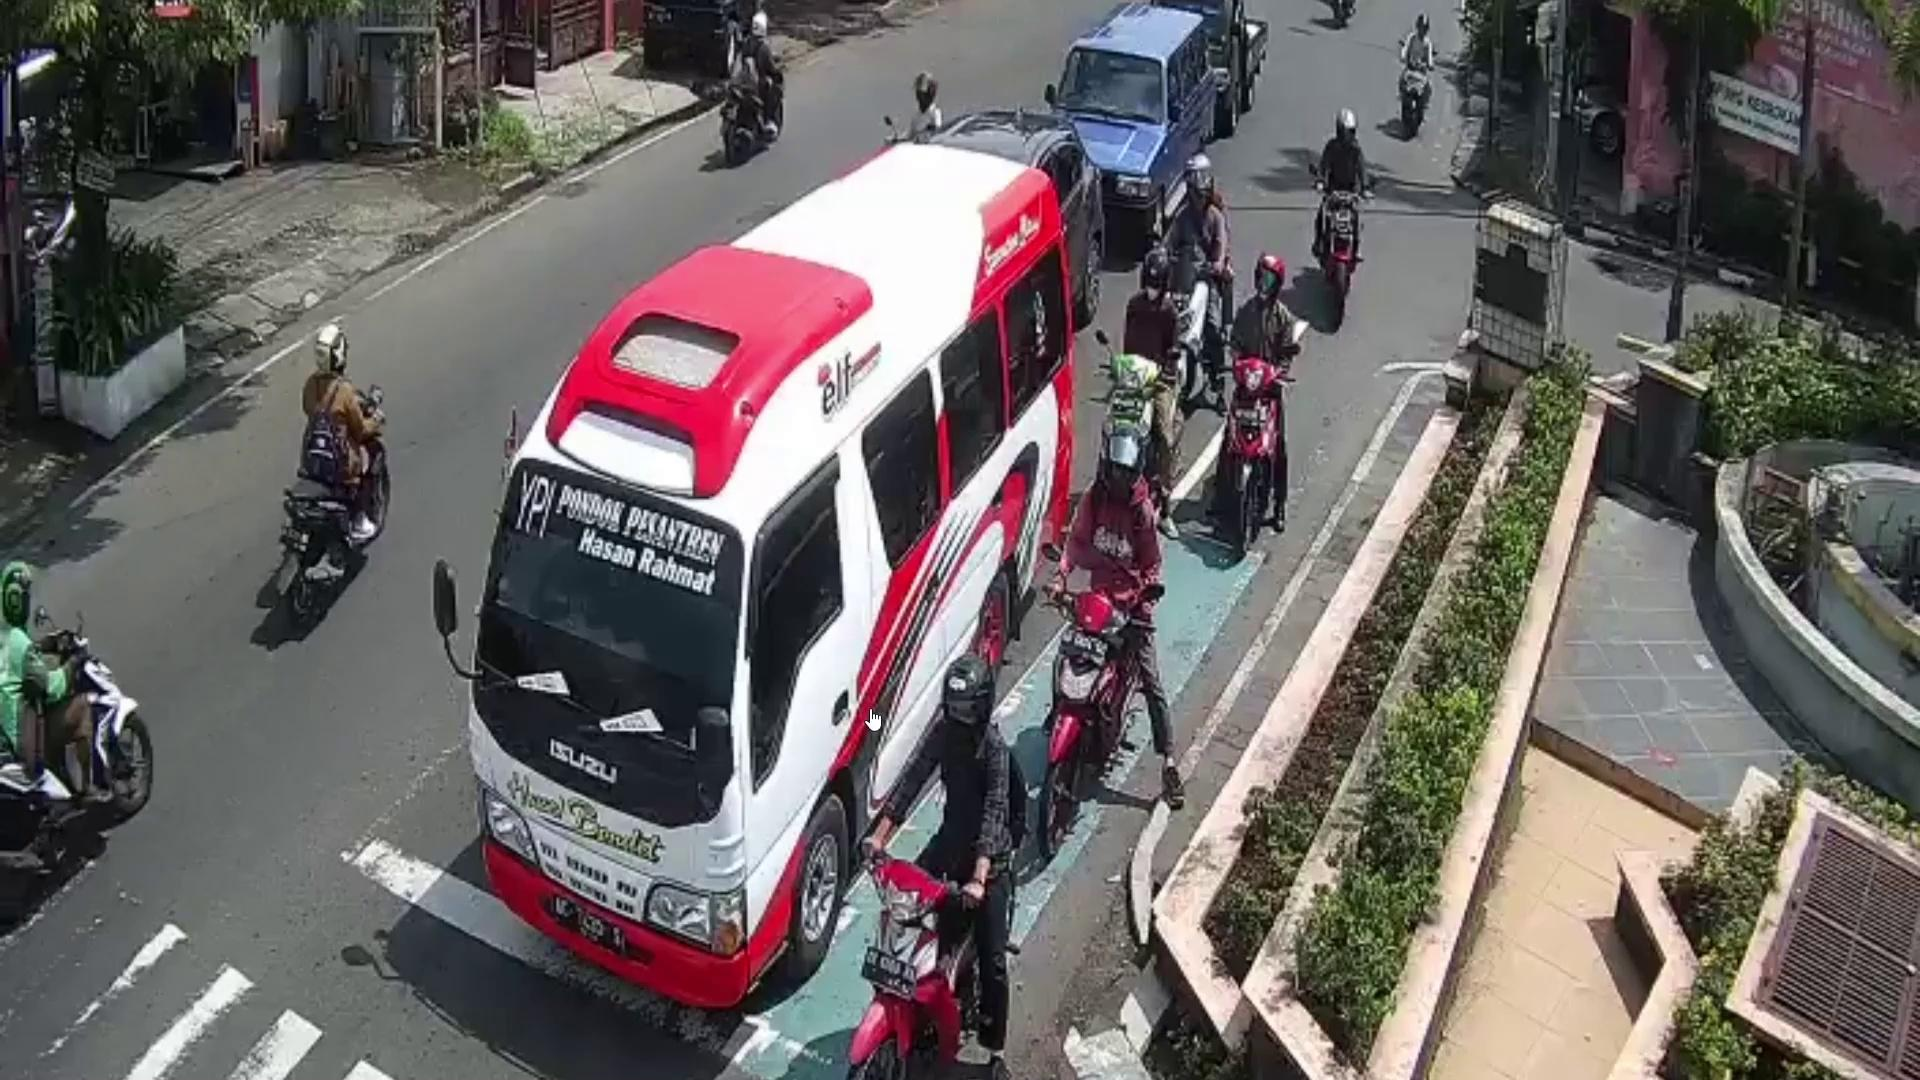bus: (471, 138, 1073, 1002)
car: (1052, 0, 1221, 244), (938, 105, 1110, 310), (1195, 0, 1273, 116)
motorbike: (4, 630, 152, 918), (856, 847, 997, 1080), (276, 384, 390, 624), (1047, 585, 1138, 848), (1089, 353, 1170, 526), (1228, 365, 1280, 555), (720, 53, 786, 164), (1312, 183, 1362, 311), (1400, 57, 1431, 132)
